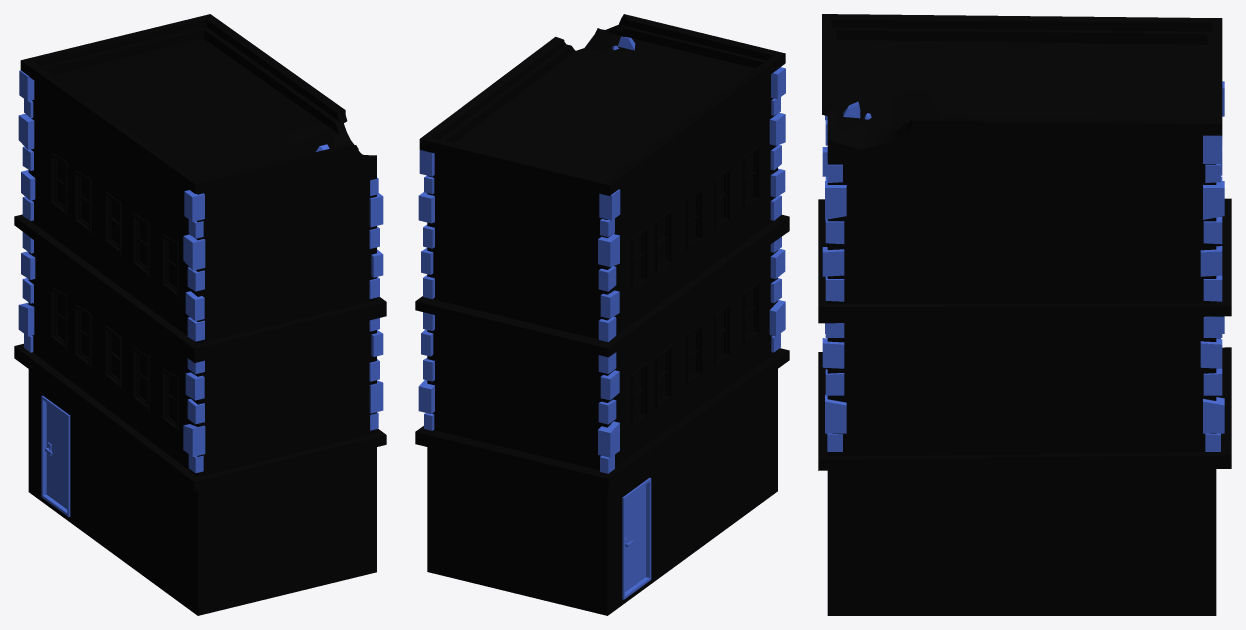
Rendered from SM_batiment2.fbx.
The picture shows the model from 3 angles, left to right: view 1: azimuth 30°, elevation 25°; view 2: azimuth 150°, elevation 25°; view 3: azimuth 270°, elevation 25°; orthographic projection. The views are drawn at different scales.
Visible parts, largest first — view 1: Object005; view 2: Object005; view 3: Object005.
Boxes of the visible parts, left/top/right/bottom form: Object005: left=14, top=14, right=386, bottom=615; Object005: left=415, top=14, right=789, bottom=615; Object005: left=818, top=14, right=1231, bottom=615.
Bounding box in the file's own units: 1254 × 2708 × 2034.
